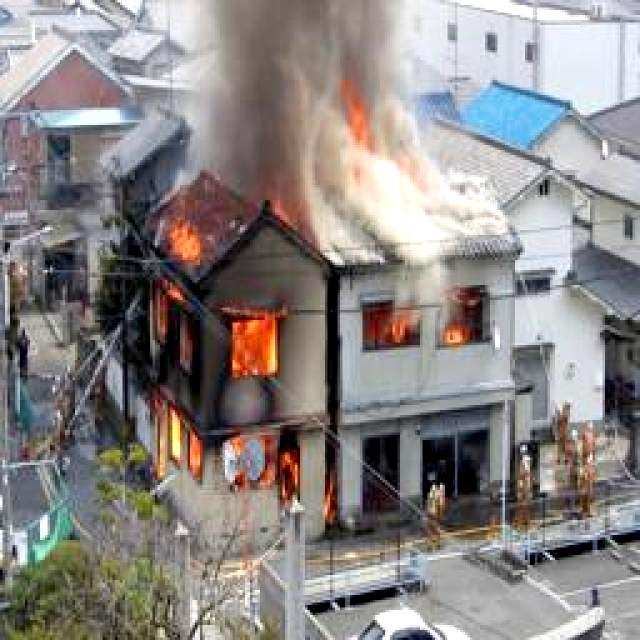fire: (146, 217, 308, 503), (371, 314, 479, 346)
